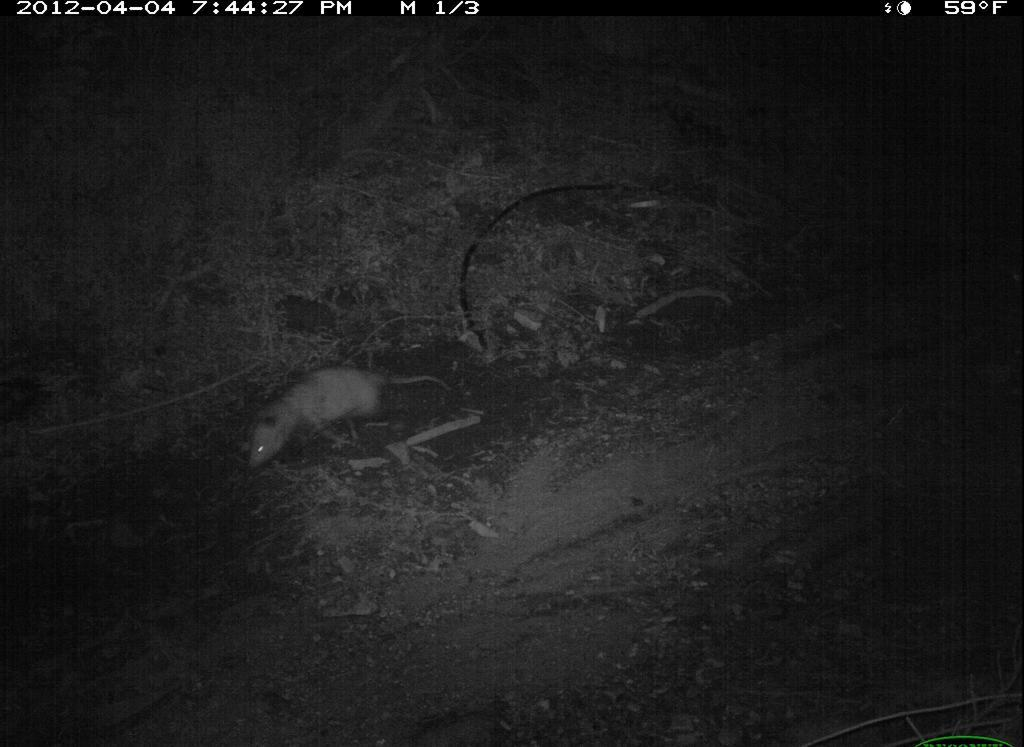opossum: (239, 362, 459, 477)
